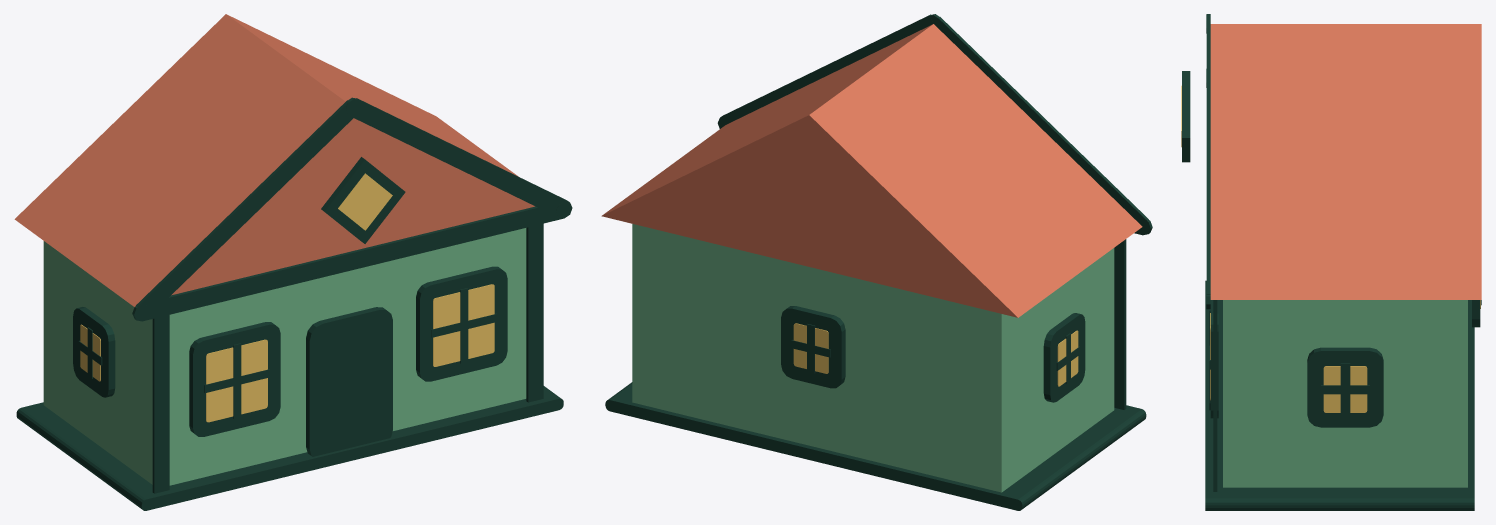
The model's file is variant-07.glb.
3 views of the same model, side by side, from view 1: azimuth 30°, elevation 25°; view 2: azimuth 150°, elevation 25°; view 3: azimuth 270°, elevation 25° (orthographic). The views are drawn at different scales.
Parts seen in each view (by area): view 1: Clay roof; view 2: Clay roof; view 3: Clay roof.
Boxes of the visible parts, x1,y1,x2,y2 form: Clay roof: [14, 14, 572, 510]; Clay roof: [601, 14, 1152, 510]; Clay roof: [1181, 14, 1481, 510].
Size of the model in its own units: 1.14 by 0.8986 by 0.63.
